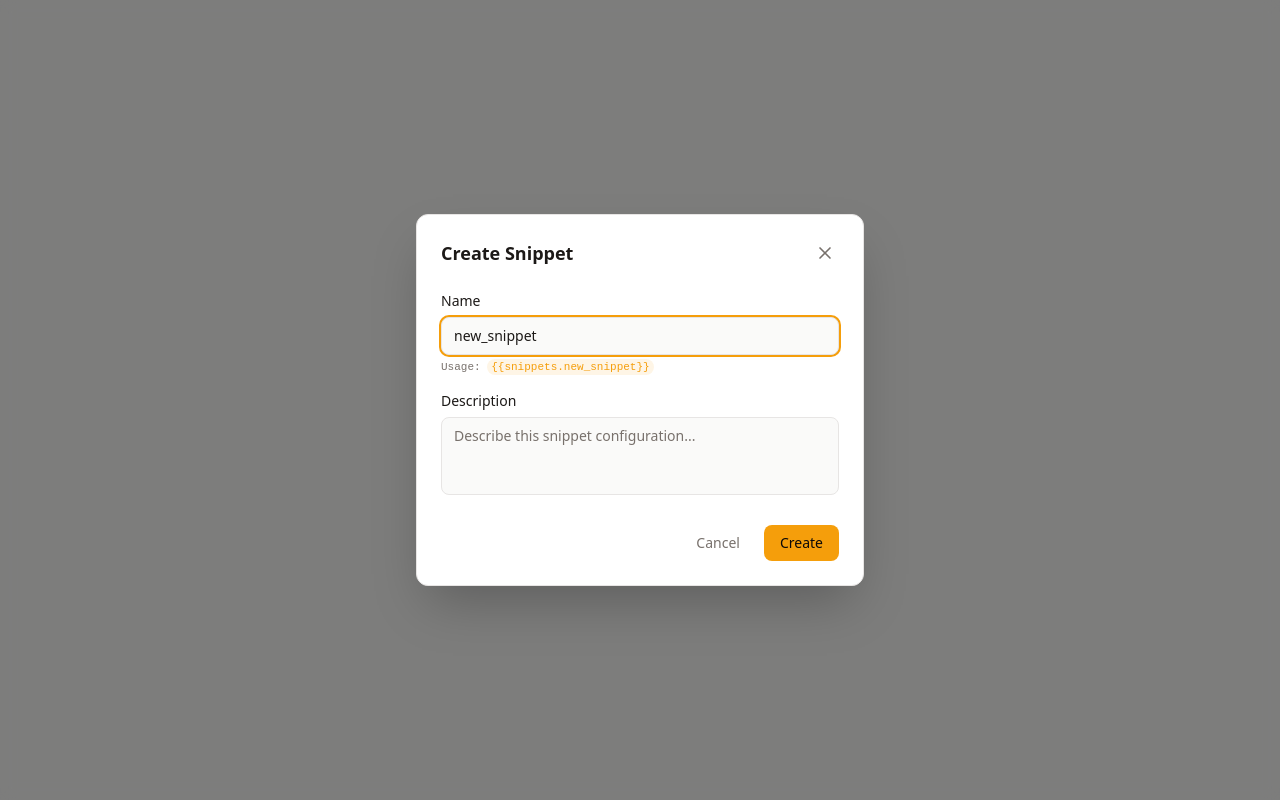
Test case: CreateResourceDialog › automatically sanitizes snippet names to lowercase and underscores
# Clear and type invalid characters
Clear the field with test id "resource-name-input" at (640, 336), box [441,317,839,355]
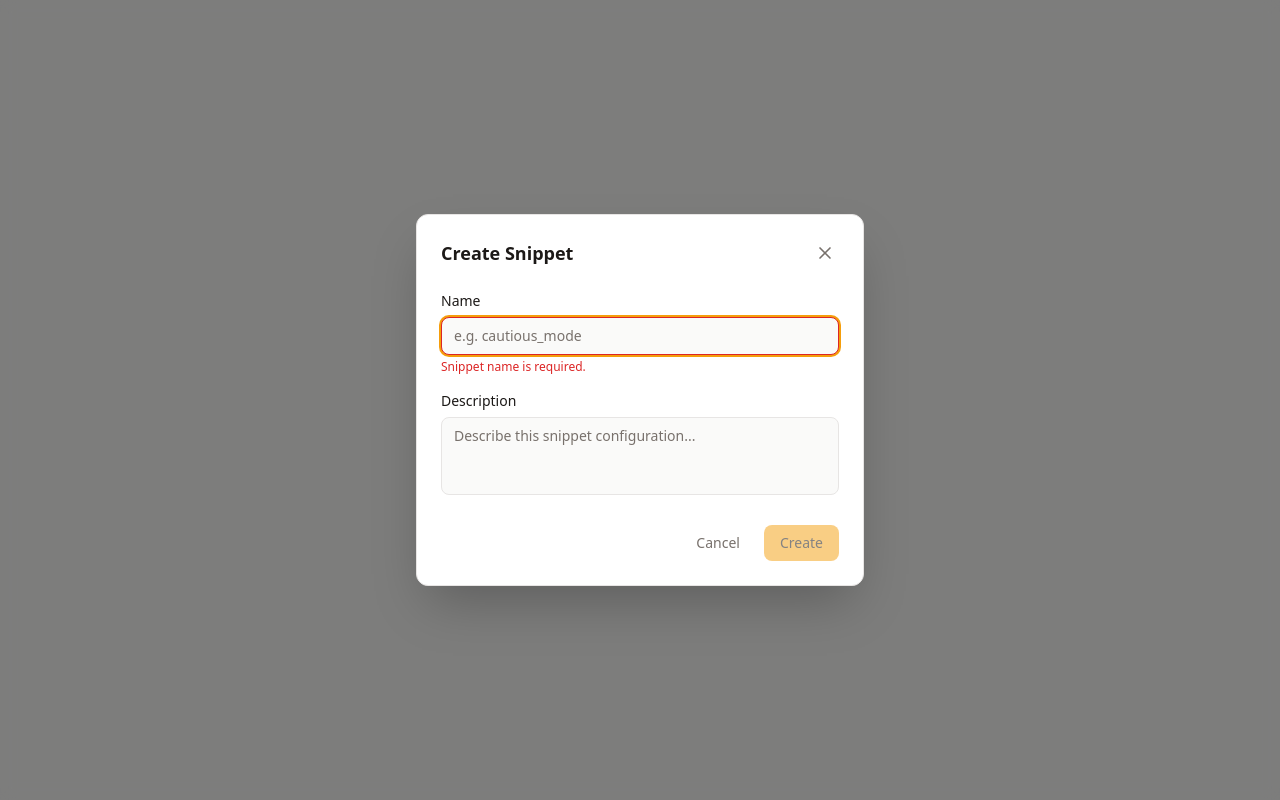
Type "My New Snippet 123!" into the field with test id "resource-name-input".
click(640, 336); type("My New Snippet 123!")  # box [441,317,839,355]
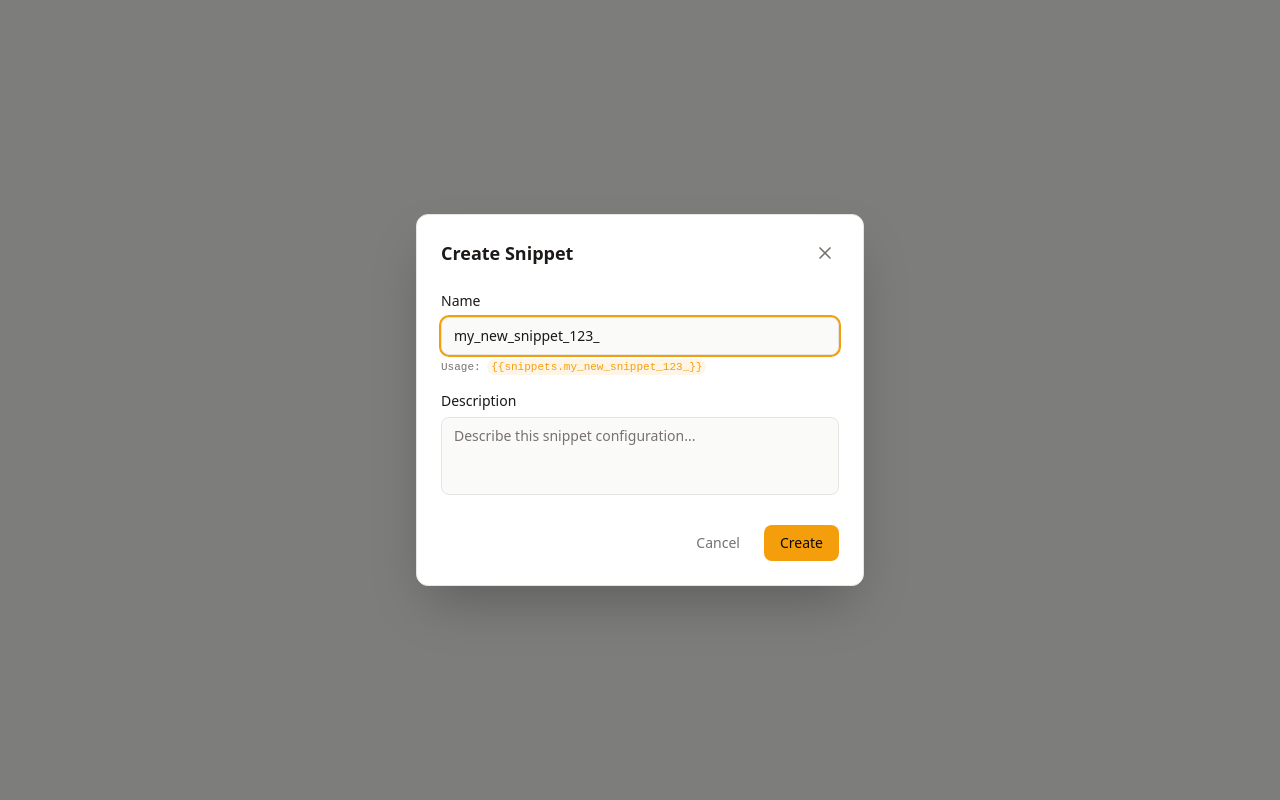
Check: the field with test id "resource-name-input" holds "my_new_snippet_123_", box [441,317,839,355]
